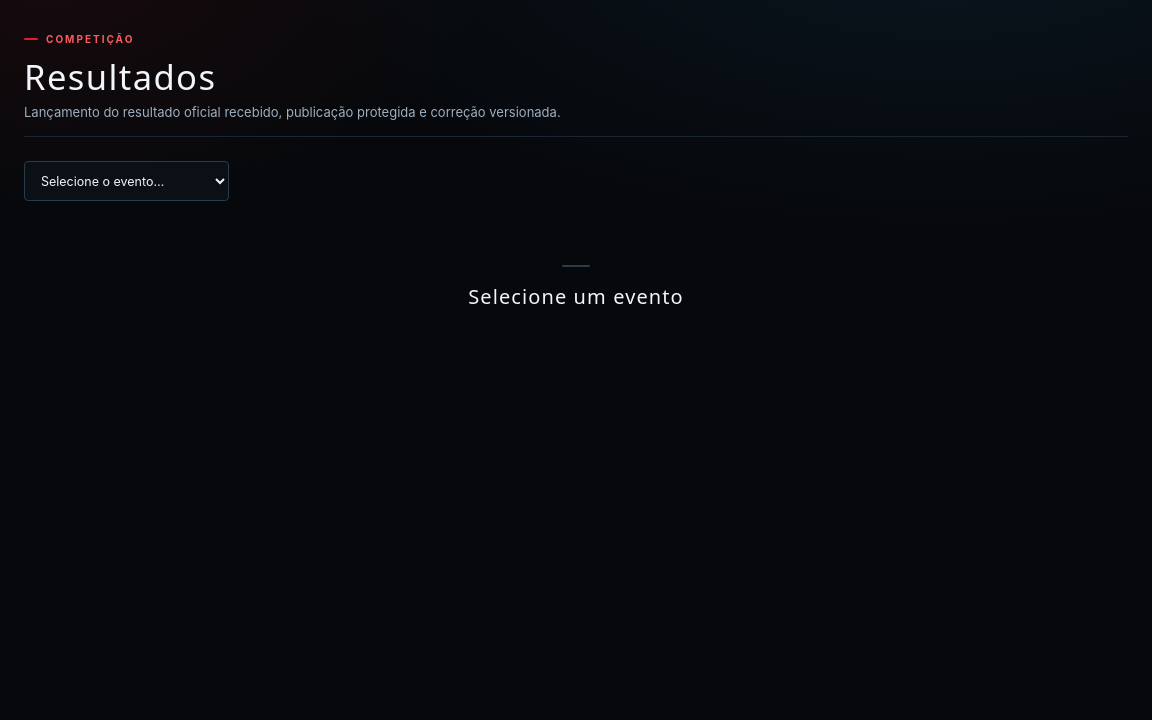
Test: lançar resultado oficial › o diálogo abre e lista quem está inscrito na classe
Select "Muscle Contest Curitiba —" in the dropdown: (126, 181) top-left (24, 161), bottom-right (229, 201)
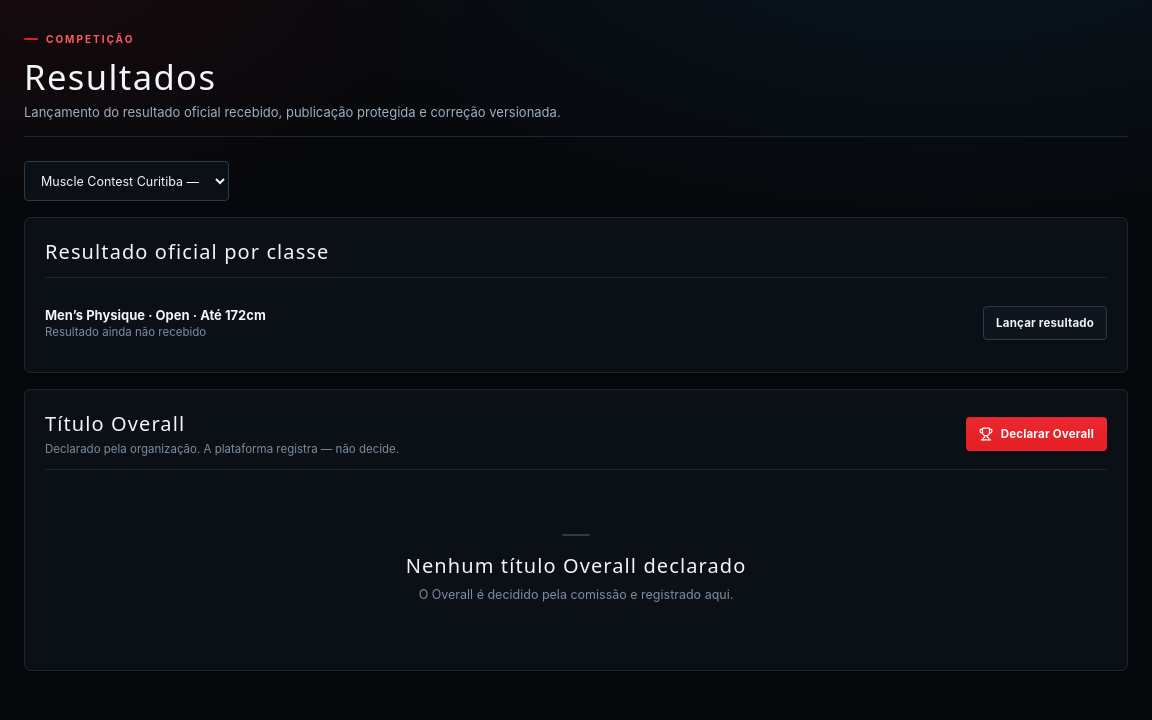
Click the button "Lançar resultado": (1045, 323) top-left (983, 306), bottom-right (1107, 340)
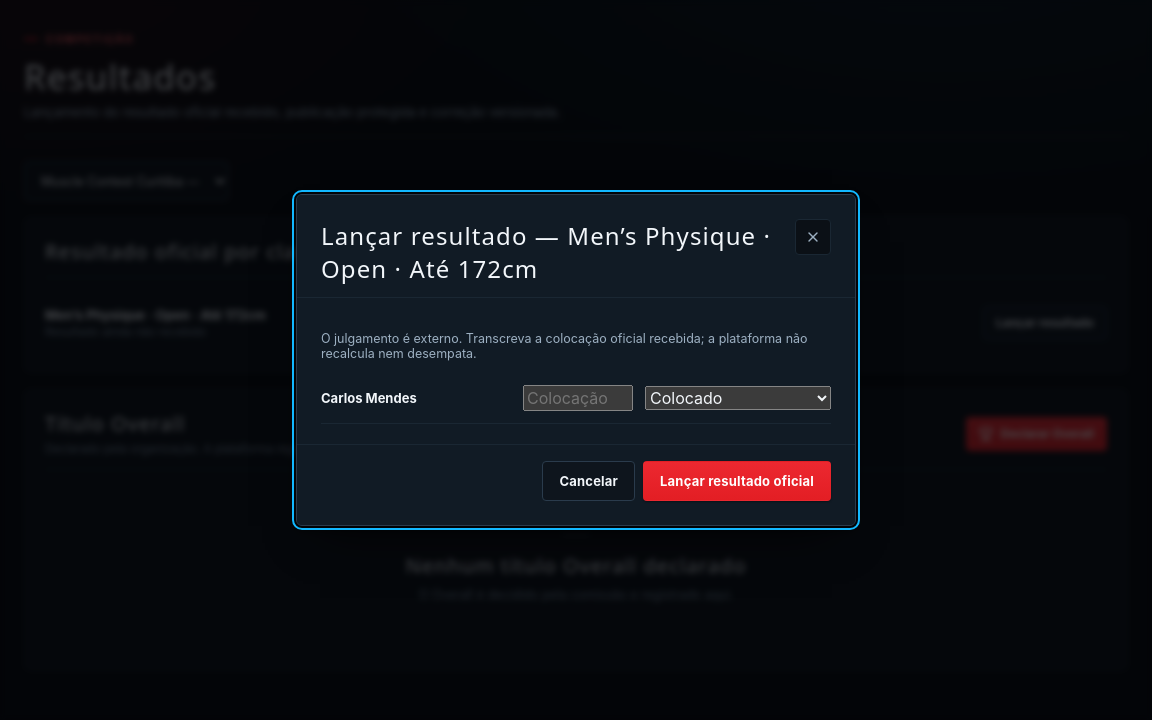
Expected: the text "Carlos Mendes" is shown, top-left (321, 390), bottom-right (417, 406)
Expected: the button "Lançar resultado oficial" is shown, top-left (643, 461), bottom-right (831, 501)
